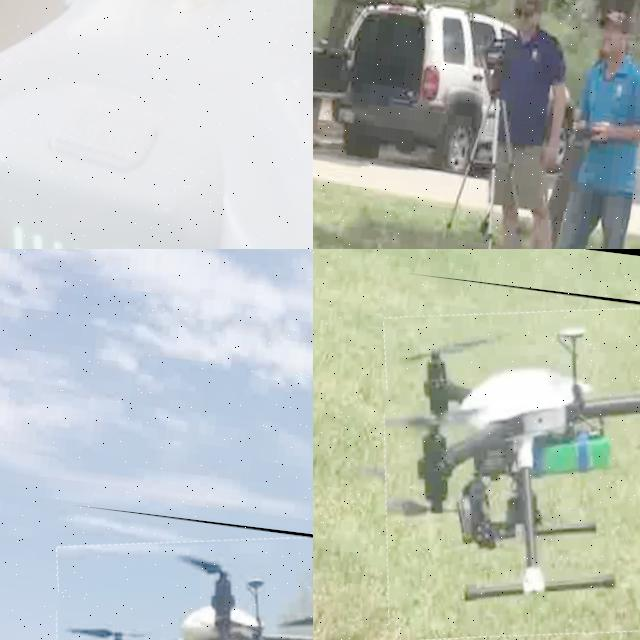drone: (358, 271, 640, 640), (0, 0, 313, 249), (41, 504, 313, 640)
